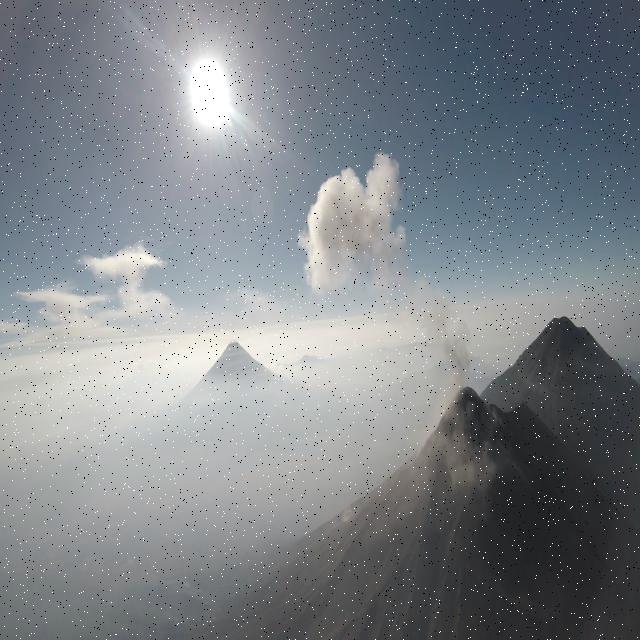Plume: (296, 151, 404, 306), (414, 288, 476, 376)
Summit: (435, 378, 545, 442)
